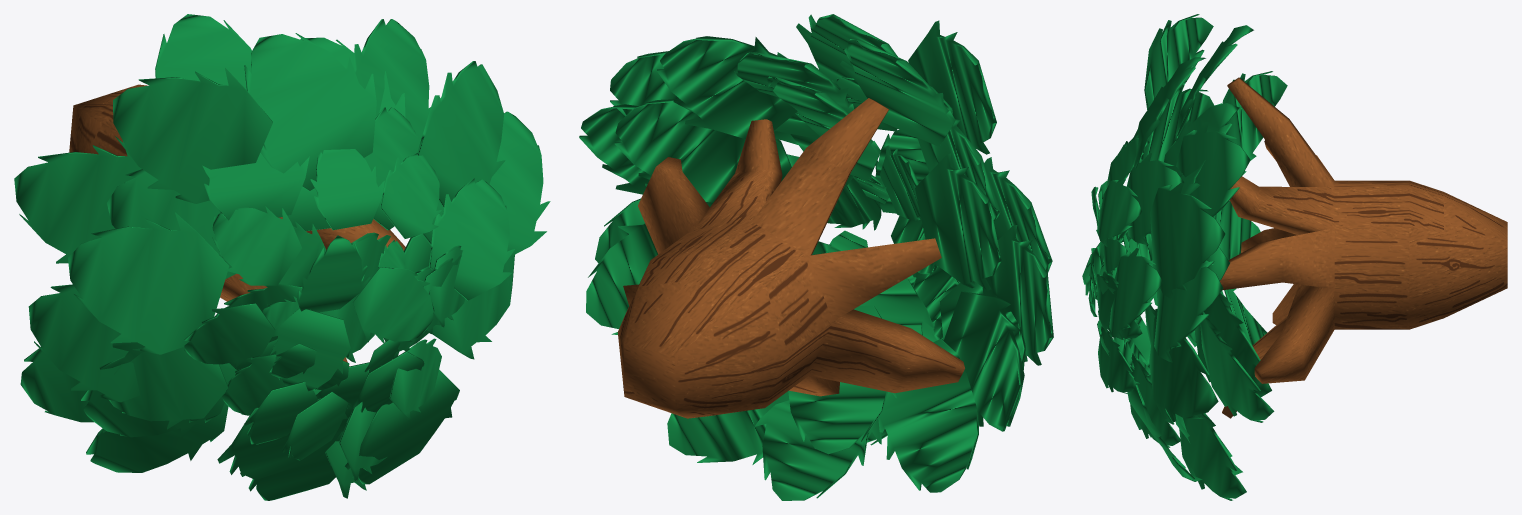
Rendered from baobabTree.fbx.
3 renders of one model, left to right at view 1: azimuth 30°, elevation 25°; view 2: azimuth 150°, elevation 25°; view 3: azimuth 270°, elevation 25°, orthographic. The views are drawn at different scales.
Visible parts, largest first — view 1: leaf_022, leaf_017, leaf_012, leaf_004, leaf_018, leaf_010, leaf_024, leaf_028, leaf_009, leaf_033, leaf_005, leaf_014 (+36 smaller); view 2: trunk, leaf_011, leaf_009, leaf_003, leaf_004, leaf_002, leaf_005, leaf_013, leaf_017, leaf_010, leaf, leaf_001 (+18 smaller); view 3: trunk, leaf_018, leaf_009, leaf_020, leaf_006, leaf_014, leaf_001, leaf_017, leaf_024, leaf_015, leaf_025, leaf_004 (+16 smaller).
Boxes of the visible parts, x1=… form: leaf_022: x1=68, y1=212, x2=229, y2=354; leaf_017: x1=113, y1=68, x2=272, y2=203; leaf_012: x1=244, y1=33, x2=376, y2=190; leaf_004: x1=14, y1=141, x2=141, y2=263; leaf_018: x1=417, y1=61, x2=505, y2=209; leaf_010: x1=28, y1=284, x2=140, y2=402; leaf_024: x1=429, y1=178, x2=514, y2=300; leaf_028: x1=109, y1=347, x2=228, y2=429; leaf_009: x1=353, y1=19, x2=430, y2=145; leaf_033: x1=212, y1=206, x2=301, y2=285; leaf_005: x1=155, y1=14, x2=251, y2=89; leaf_014: x1=442, y1=111, x2=550, y2=256; trunk: x1=617, y1=98, x2=964, y2=418; leaf_011: x1=878, y1=339, x2=978, y2=492; leaf_009: x1=657, y1=36, x2=797, y2=138; leaf_003: x1=614, y1=99, x2=745, y2=202; leaf_004: x1=915, y1=153, x2=1001, y2=290; leaf_002: x1=943, y1=291, x2=1024, y2=431; leaf_005: x1=839, y1=39, x2=955, y2=146; leaf_013: x1=754, y1=400, x2=881, y2=500; leaf_017: x1=908, y1=20, x2=996, y2=154; leaf_010: x1=982, y1=225, x2=1053, y2=365; leaf: x1=788, y1=305, x2=897, y2=454; leaf_001: x1=667, y1=391, x2=789, y2=464; trunk: x1=1220, y1=77, x2=1507, y2=418; leaf_018: x1=1150, y1=183, x2=1225, y2=298; leaf_009: x1=1176, y1=122, x2=1250, y2=216; leaf_020: x1=1149, y1=308, x2=1218, y2=422; leaf_006: x1=1200, y1=311, x2=1274, y2=422; leaf_014: x1=1154, y1=260, x2=1223, y2=362; leaf_001: x1=1179, y1=413, x2=1246, y2=500; leaf_017: x1=1144, y1=14, x2=1213, y2=109; leaf_024: x1=1109, y1=248, x2=1162, y2=339; leaf_015: x1=1195, y1=293, x2=1271, y2=396; leaf_025: x1=1126, y1=153, x2=1184, y2=245; leaf_004: x1=1222, y1=71, x2=1287, y2=175.
Size of the model in its own units: 14.82 by 14.05 by 13.36.
Materials: 2 (2 with a texture image).
